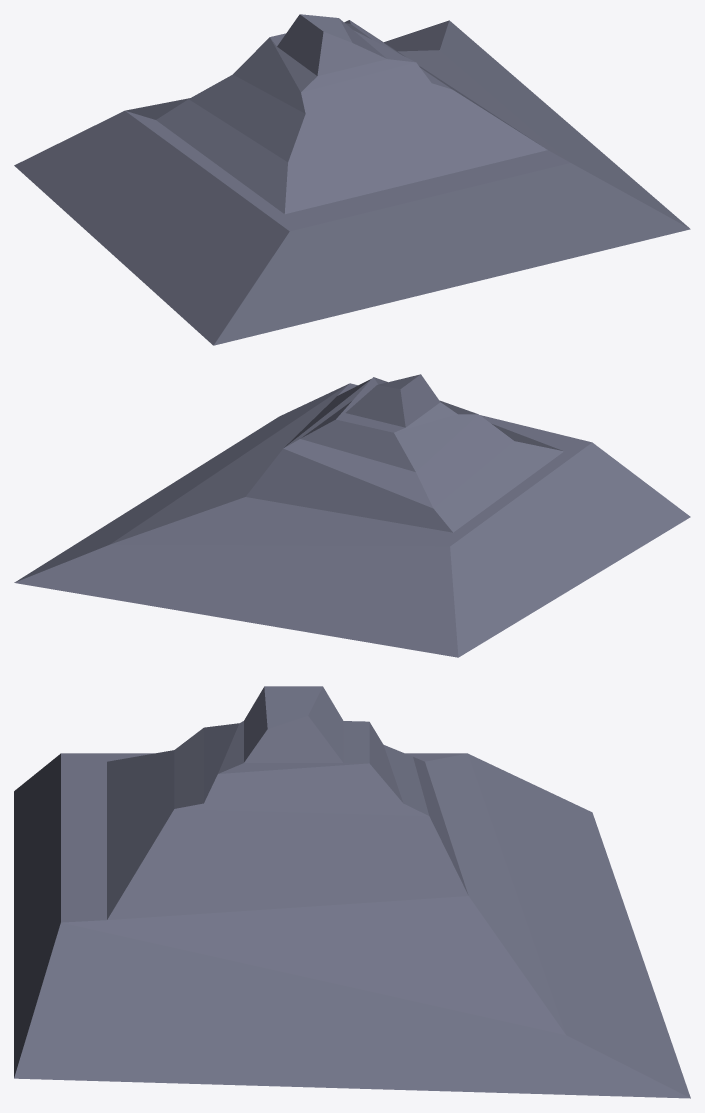
File: Steen vierkant1.fbx
The picture shows the model from 3 angles, top to bottom: view 1: azimuth 30°, elevation 25°; view 2: azimuth 150°, elevation 25°; view 3: azimuth 270°, elevation 25°; orthographic projection. The views are drawn at different scales.
Parts seen in each view (by area): view 1: square steen3; view 2: square steen3; view 3: square steen3.
Boxes of the visible parts, x1,y1,x2,y2 form: square steen3: (14,14,690,345); square steen3: (14,374,690,657); square steen3: (14,686,690,1098).
Bounding box in the file's own units: 111 × 39.01 × 103.
